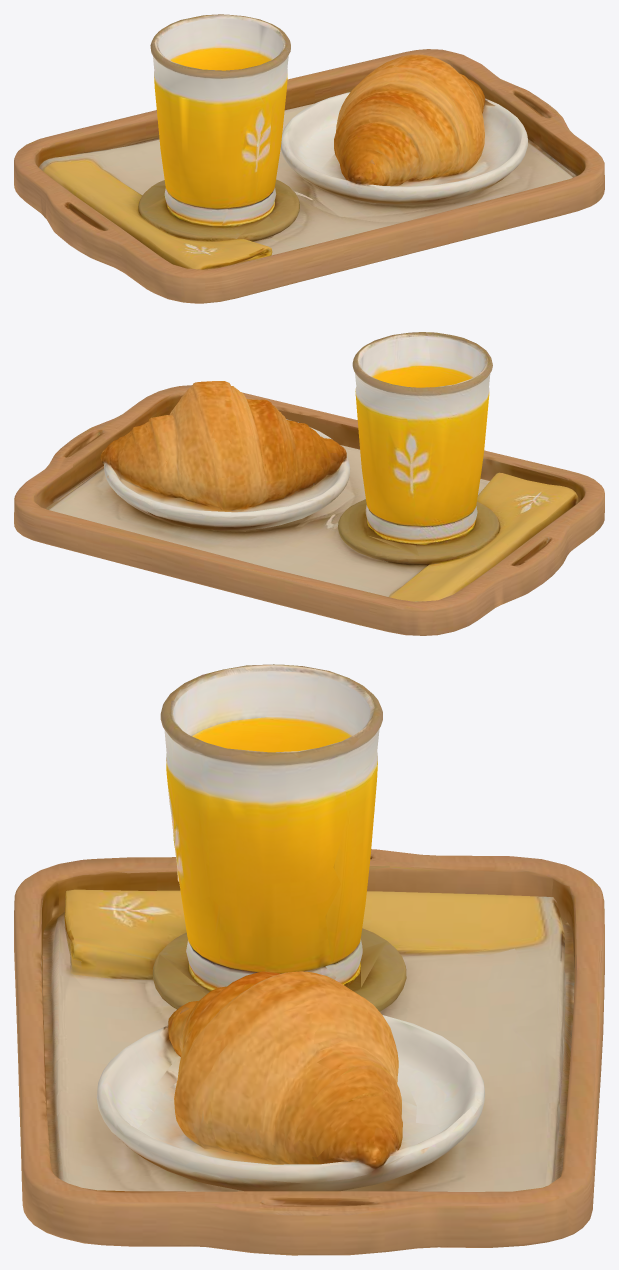
The model's file is zumo-croisant.glb.
The picture shows the model from 3 angles, top to bottom: view 1: azimuth 30°, elevation 25°; view 2: azimuth 150°, elevation 25°; view 3: azimuth 270°, elevation 25°; orthographic projection. The views are drawn at different scales.
Visible parts, largest first — view 1: node_0.001; view 2: node_0.001; view 3: node_0.001.
Boxes of the visible parts, left/top/right/bottom form: node_0.001: left=14, top=14, right=604, bottom=303; node_0.001: left=14, top=332, right=604, bottom=635; node_0.001: left=14, top=664, right=604, bottom=1255.
Size of the model in its own units: 0.5818 by 0.2111 by 0.3937.
Materials: 1 (1 with a texture image).
